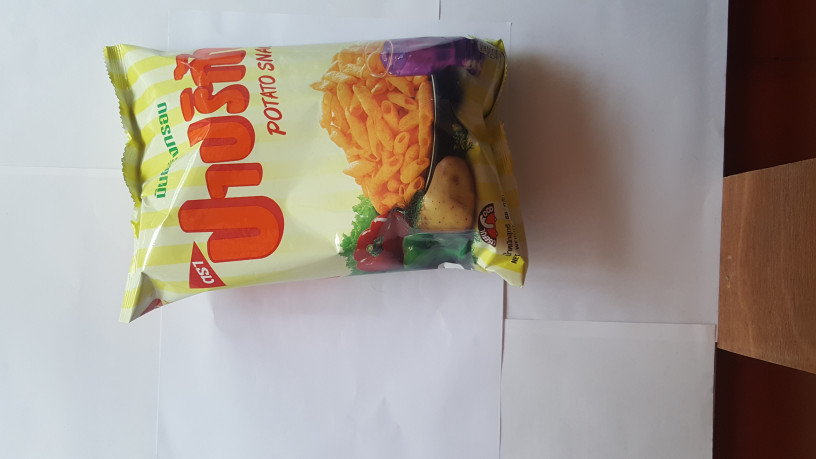paprika: (92, 20, 560, 325)
